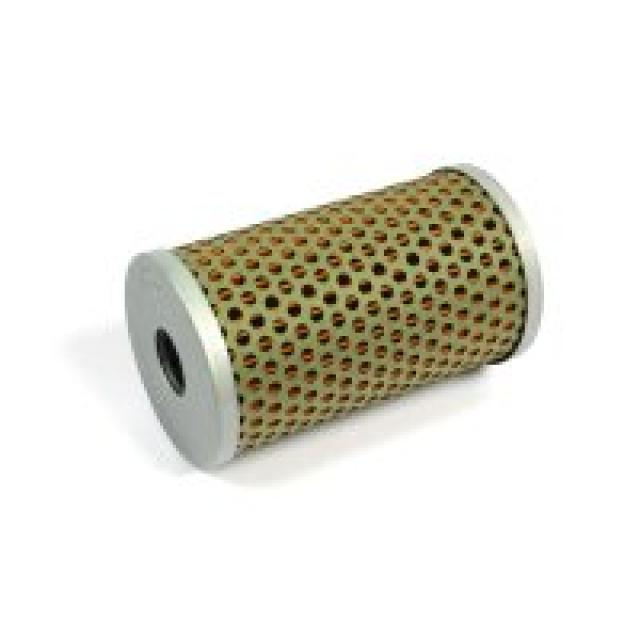oil_filter: (121, 152, 553, 476)
